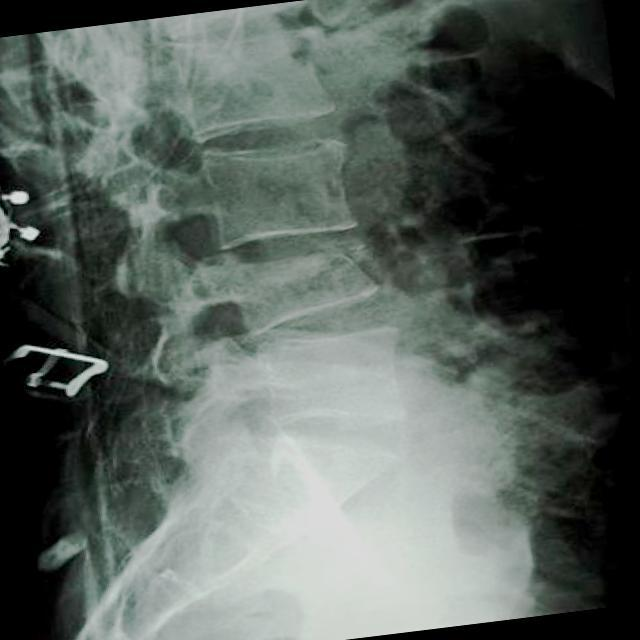Compression-Crush Fracutre: (213, 254, 388, 322)
